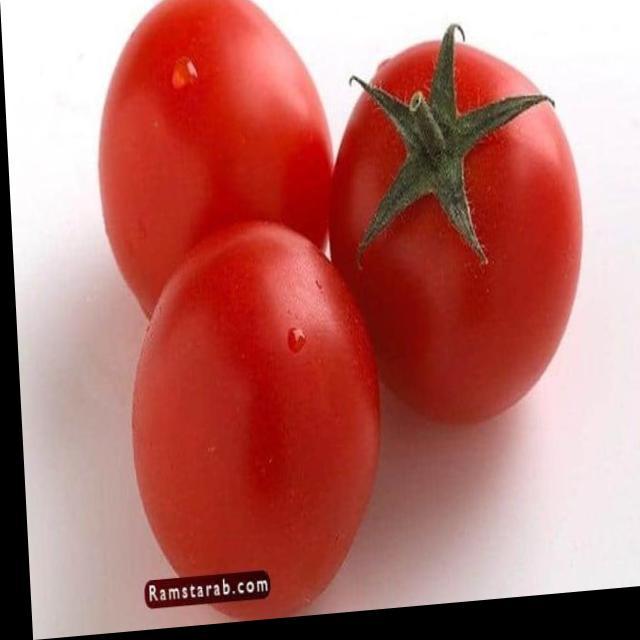kirmizi: (74, 0, 630, 635)
